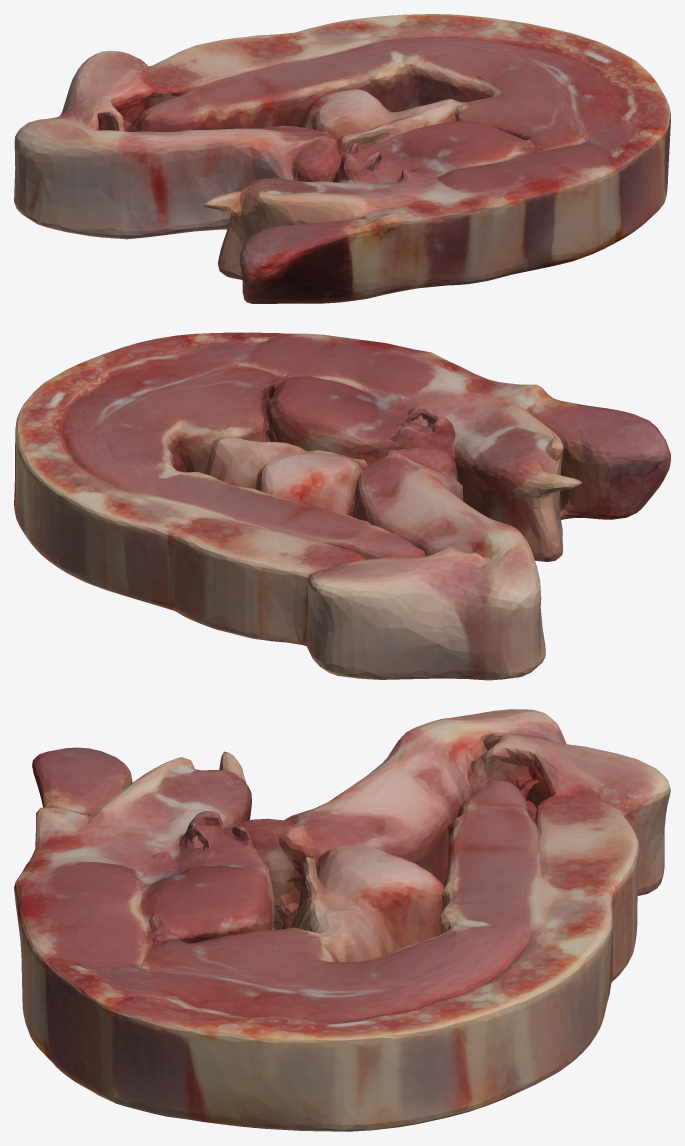
The model's file is asado.glb.
The picture shows the model from 3 angles, top to bottom: view 1: azimuth 30°, elevation 25°; view 2: azimuth 150°, elevation 25°; view 3: azimuth 270°, elevation 25°; orthographic projection. The views are drawn at different scales.
Visible parts, largest first — view 1: geometry_0; view 2: geometry_0; view 3: geometry_0.
Boxes of the visible parts, x1,y1,x2,y2 form: geometry_0: (14, 14, 670, 303); geometry_0: (14, 332, 670, 680); geometry_0: (14, 709, 670, 1131).
Size of the model in its own units: 0.9933 by 0.1975 by 0.8139.
Materials: 1 (1 with a texture image).
